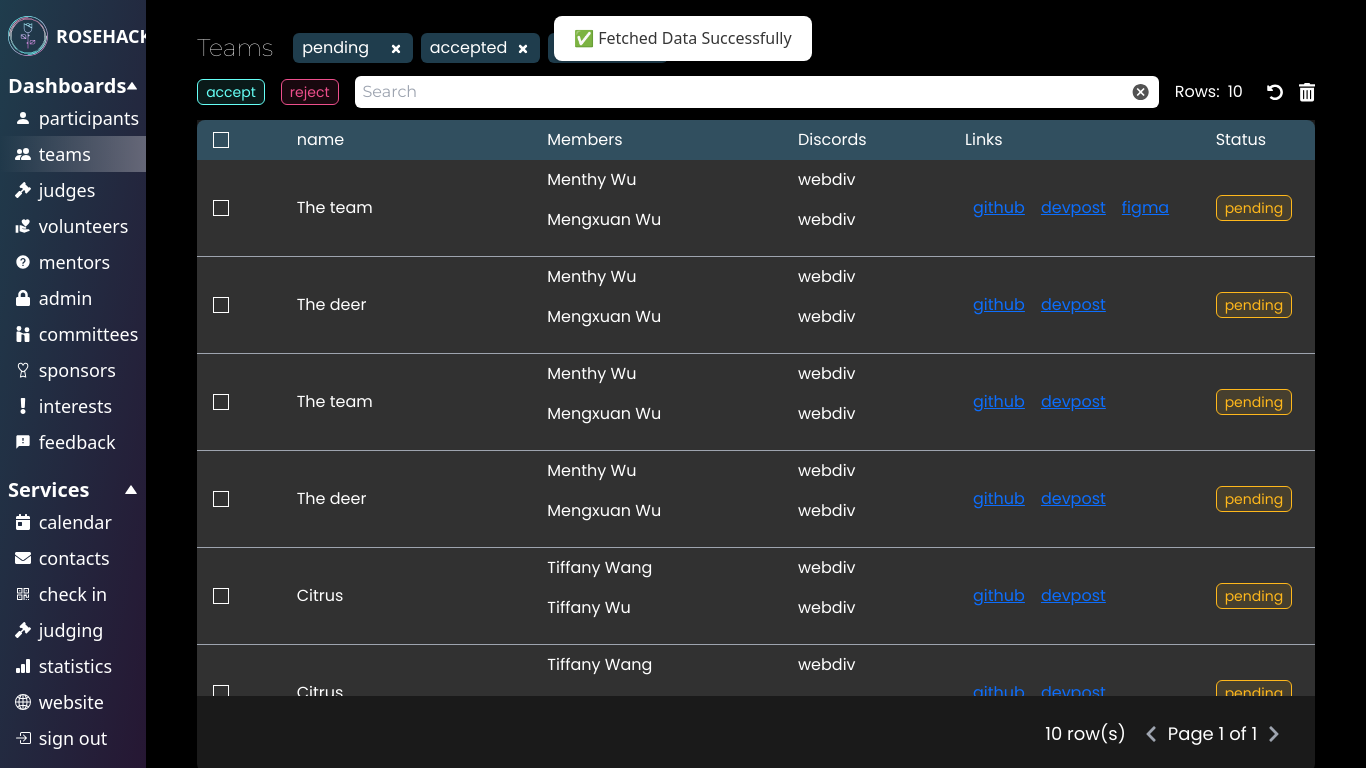
Test: Teams Filters › Click Pending
What coordinates should you click on to do the following:
click the element with test id "pending-filter"
I would click on:
 (353, 48)
Its box is [293, 33, 413, 63].
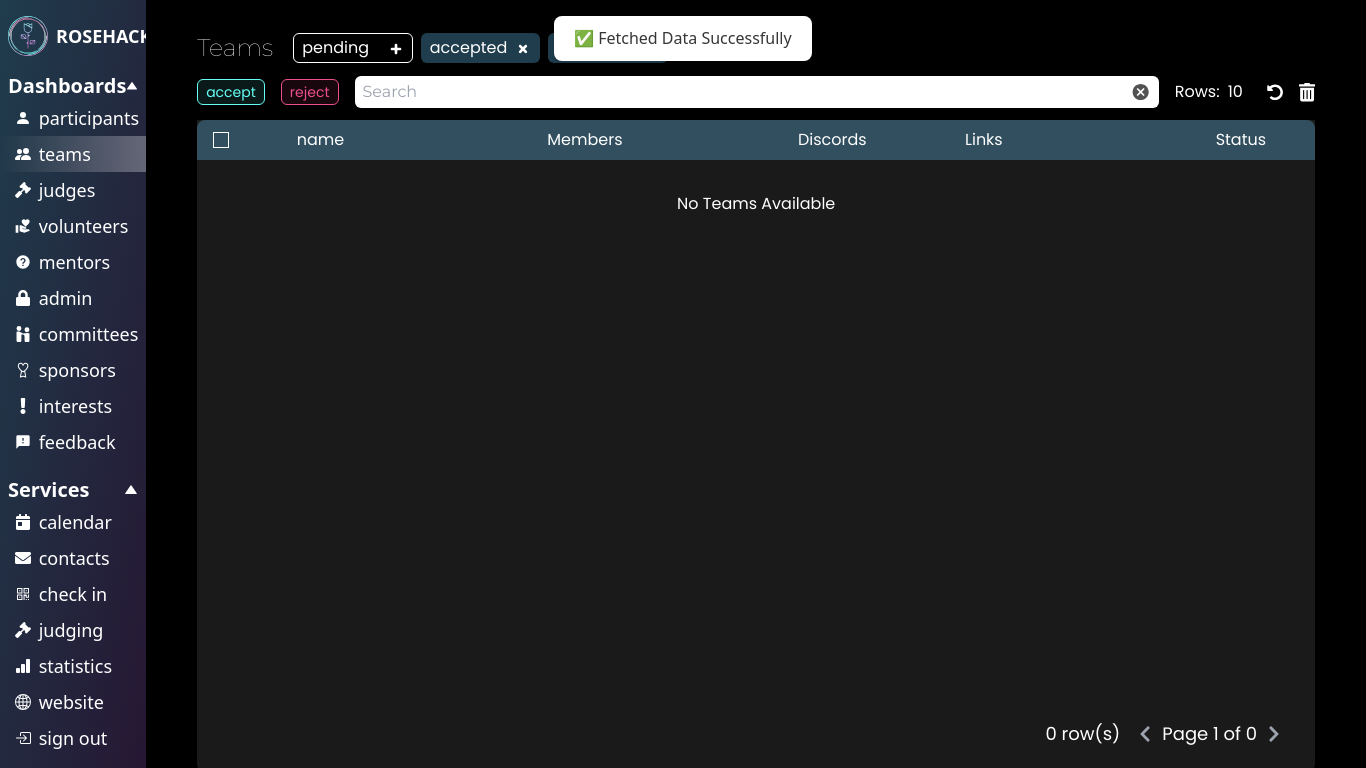
Result: the element with test id "1" is gone
Result: the element with test id "2" is gone
Result: the element with test id "3" is gone
